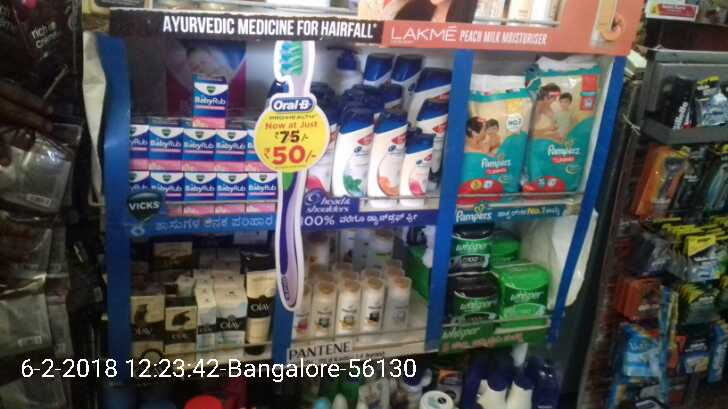beauty: (337, 115, 370, 208), (245, 275, 280, 358), (370, 110, 400, 203), (356, 277, 389, 346), (400, 136, 430, 206), (166, 305, 196, 359), (388, 275, 413, 339), (335, 283, 359, 339), (216, 302, 241, 351), (196, 310, 218, 356)
pharmacy: (459, 80, 525, 204), (526, 63, 584, 194), (494, 265, 550, 324), (446, 272, 499, 326), (444, 224, 494, 268), (189, 77, 230, 127), (147, 125, 183, 173), (182, 125, 216, 174), (183, 170, 217, 216), (216, 130, 245, 173), (217, 173, 245, 215), (247, 175, 276, 212)
